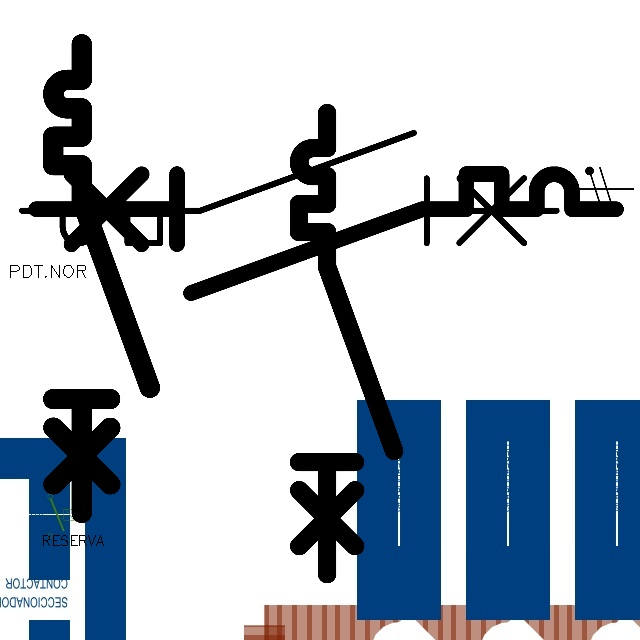interruptor_termomagnetico: (21, 159, 631, 308), (8, 119, 570, 257), (41, 32, 161, 525), (287, 101, 405, 586)
